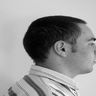ear: (48, 34, 76, 63)
